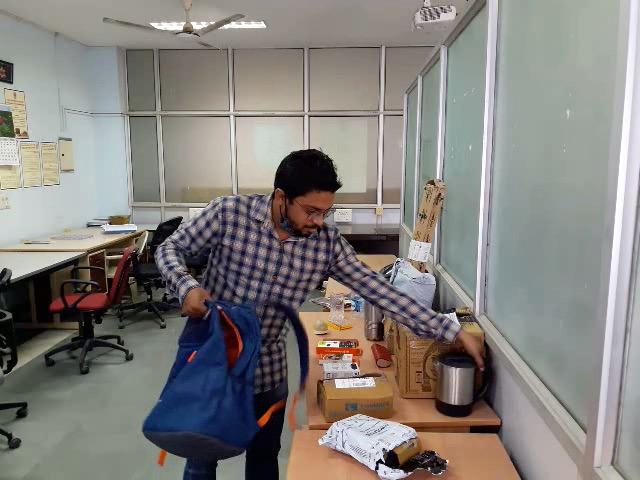shoplifting: (112, 273, 516, 468)
